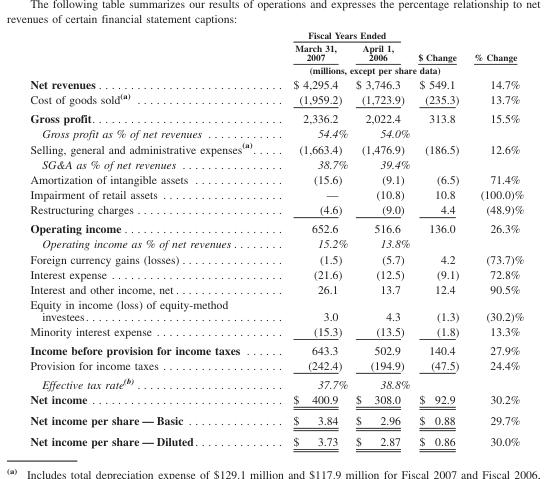table: (29, 29, 523, 447)
table column: (29, 29, 273, 447), (273, 29, 351, 447), (351, 29, 413, 447), (465, 29, 523, 447), (413, 29, 465, 447)
table column header: (29, 29, 523, 76)
table row: (29, 296, 523, 323), (29, 41, 523, 63), (29, 409, 523, 430), (29, 90, 523, 108), (29, 373, 523, 391), (29, 391, 523, 409), (29, 108, 523, 125), (29, 139, 523, 156), (29, 201, 523, 218), (29, 218, 523, 235), (29, 323, 523, 340), (29, 340, 523, 357), (29, 430, 523, 447), (29, 235, 523, 251), (29, 357, 523, 373), (29, 156, 523, 171), (29, 171, 523, 186), (29, 186, 523, 201), (29, 251, 523, 266), (29, 266, 523, 281), (29, 281, 523, 296), (29, 76, 523, 90), (29, 125, 523, 139), (29, 63, 523, 76), (29, 29, 523, 41)
table spanning cell: (465, 29, 523, 76), (273, 63, 465, 76), (413, 29, 465, 63), (273, 29, 413, 41)
